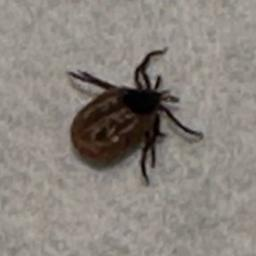Ixodes scapularis: (68, 45, 204, 188)
